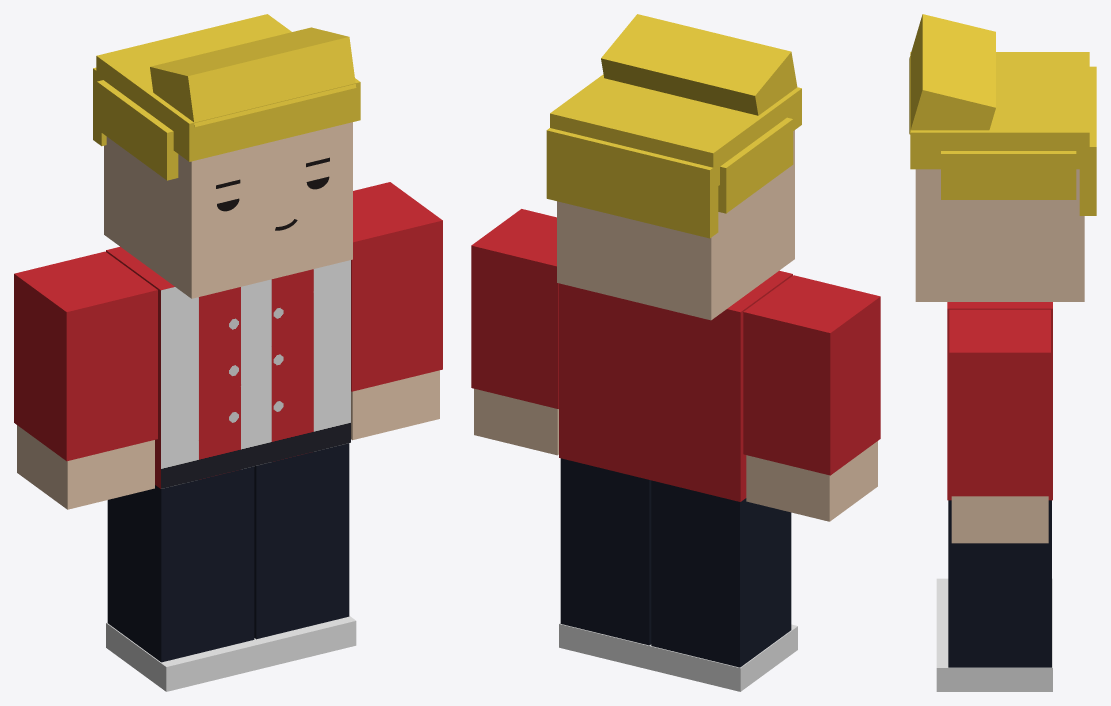
The model's file is rival_blond.glb.
The picture shows the model from 3 angles, left to right: view 1: azimuth 30°, elevation 25°; view 2: azimuth 150°, elevation 25°; view 3: azimuth 270°, elevation 25°; orthographic projection. The views are drawn at different scales.
Visible parts, largest first — view 1: head, torso, arm_R, leg_R, arm_L, leg_L, face; view 2: head, torso, arm_R, leg_R, arm_L, leg_L; view 3: head, arm_L, leg_L, torso, leg_R.
Part boxes in pixels (x1,y1,x2,y2): head: (93, 14, 360, 298); torso: (106, 246, 350, 488); arm_R: (14, 251, 157, 509); leg_R: (106, 466, 261, 691); arm_L: (351, 182, 442, 440); leg_L: (254, 443, 356, 668); face: (216, 157, 329, 230); head: (546, 14, 801, 320); torso: (559, 270, 792, 501); arm_R: (743, 275, 880, 521); leg_R: (649, 480, 797, 691); arm_L: (471, 209, 558, 455); leg_L: (559, 458, 651, 669); head: (909, 14, 1096, 301); arm_L: (949, 309, 1050, 543); leg_L: (936, 500, 1052, 691); torso: (947, 302, 1052, 500); leg_R: (936, 578, 1052, 623).
Bounding box in the file's own units: 0.99 × 1.55 × 0.4425.
Materials: 8 (2 with a texture image).
